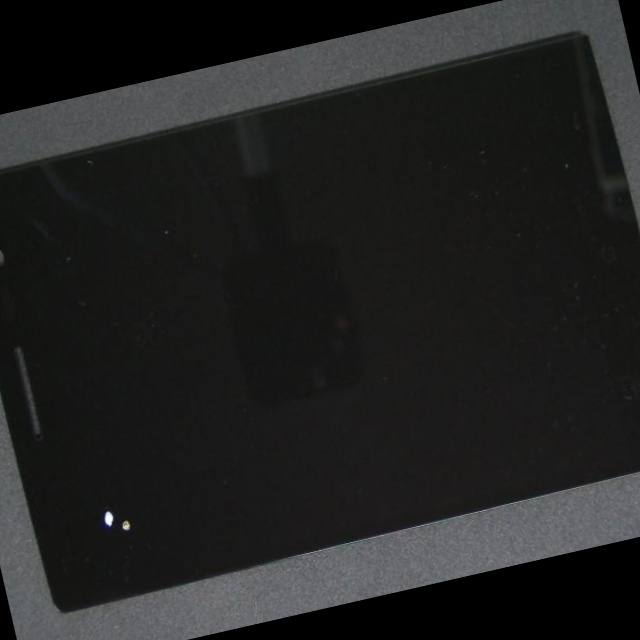stain: (0, 310, 188, 640)
